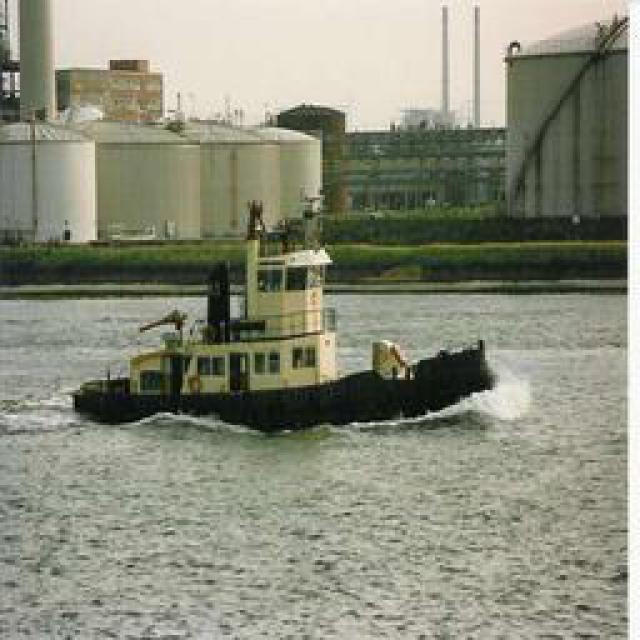Ship: (62, 192, 508, 431)
